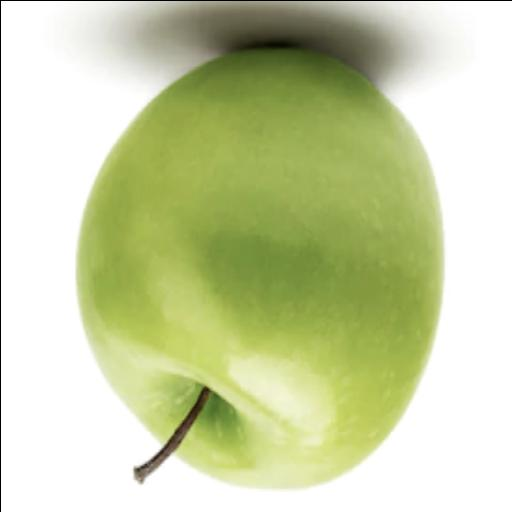apple: (78, 48, 443, 486)
